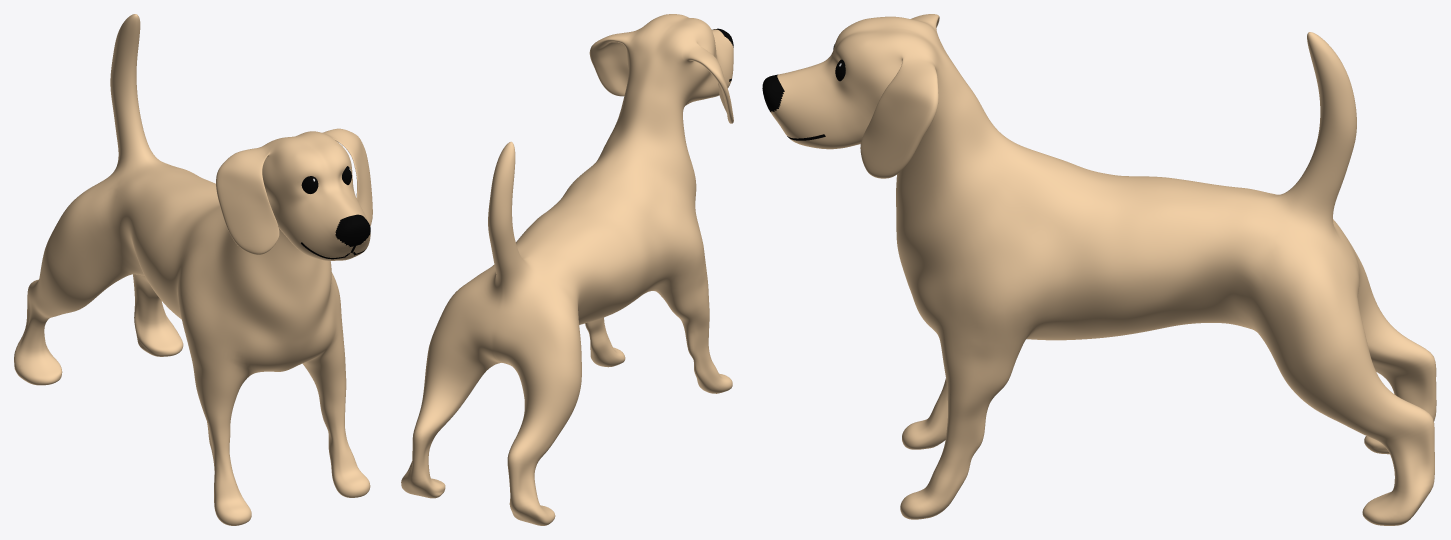
Rendered from maximo.glb.
3 renders of one model, left to right at view 1: azimuth 30°, elevation 25°; view 2: azimuth 150°, elevation 25°; view 3: azimuth 270°, elevation 25°, orthographic. The views are drawn at different scales.
Visible parts, largest first — view 1: 10680_Dog_v2; view 2: 10680_Dog_v2; view 3: 10680_Dog_v2.
Boxes of the visible parts, x1,y1,x2,y2 form: 10680_Dog_v2: (14, 14, 372, 525); 10680_Dog_v2: (401, 14, 733, 525); 10680_Dog_v2: (762, 14, 1436, 525).
Bounding box in the file's own units: 11.55 × 26.1 × 35.11.
